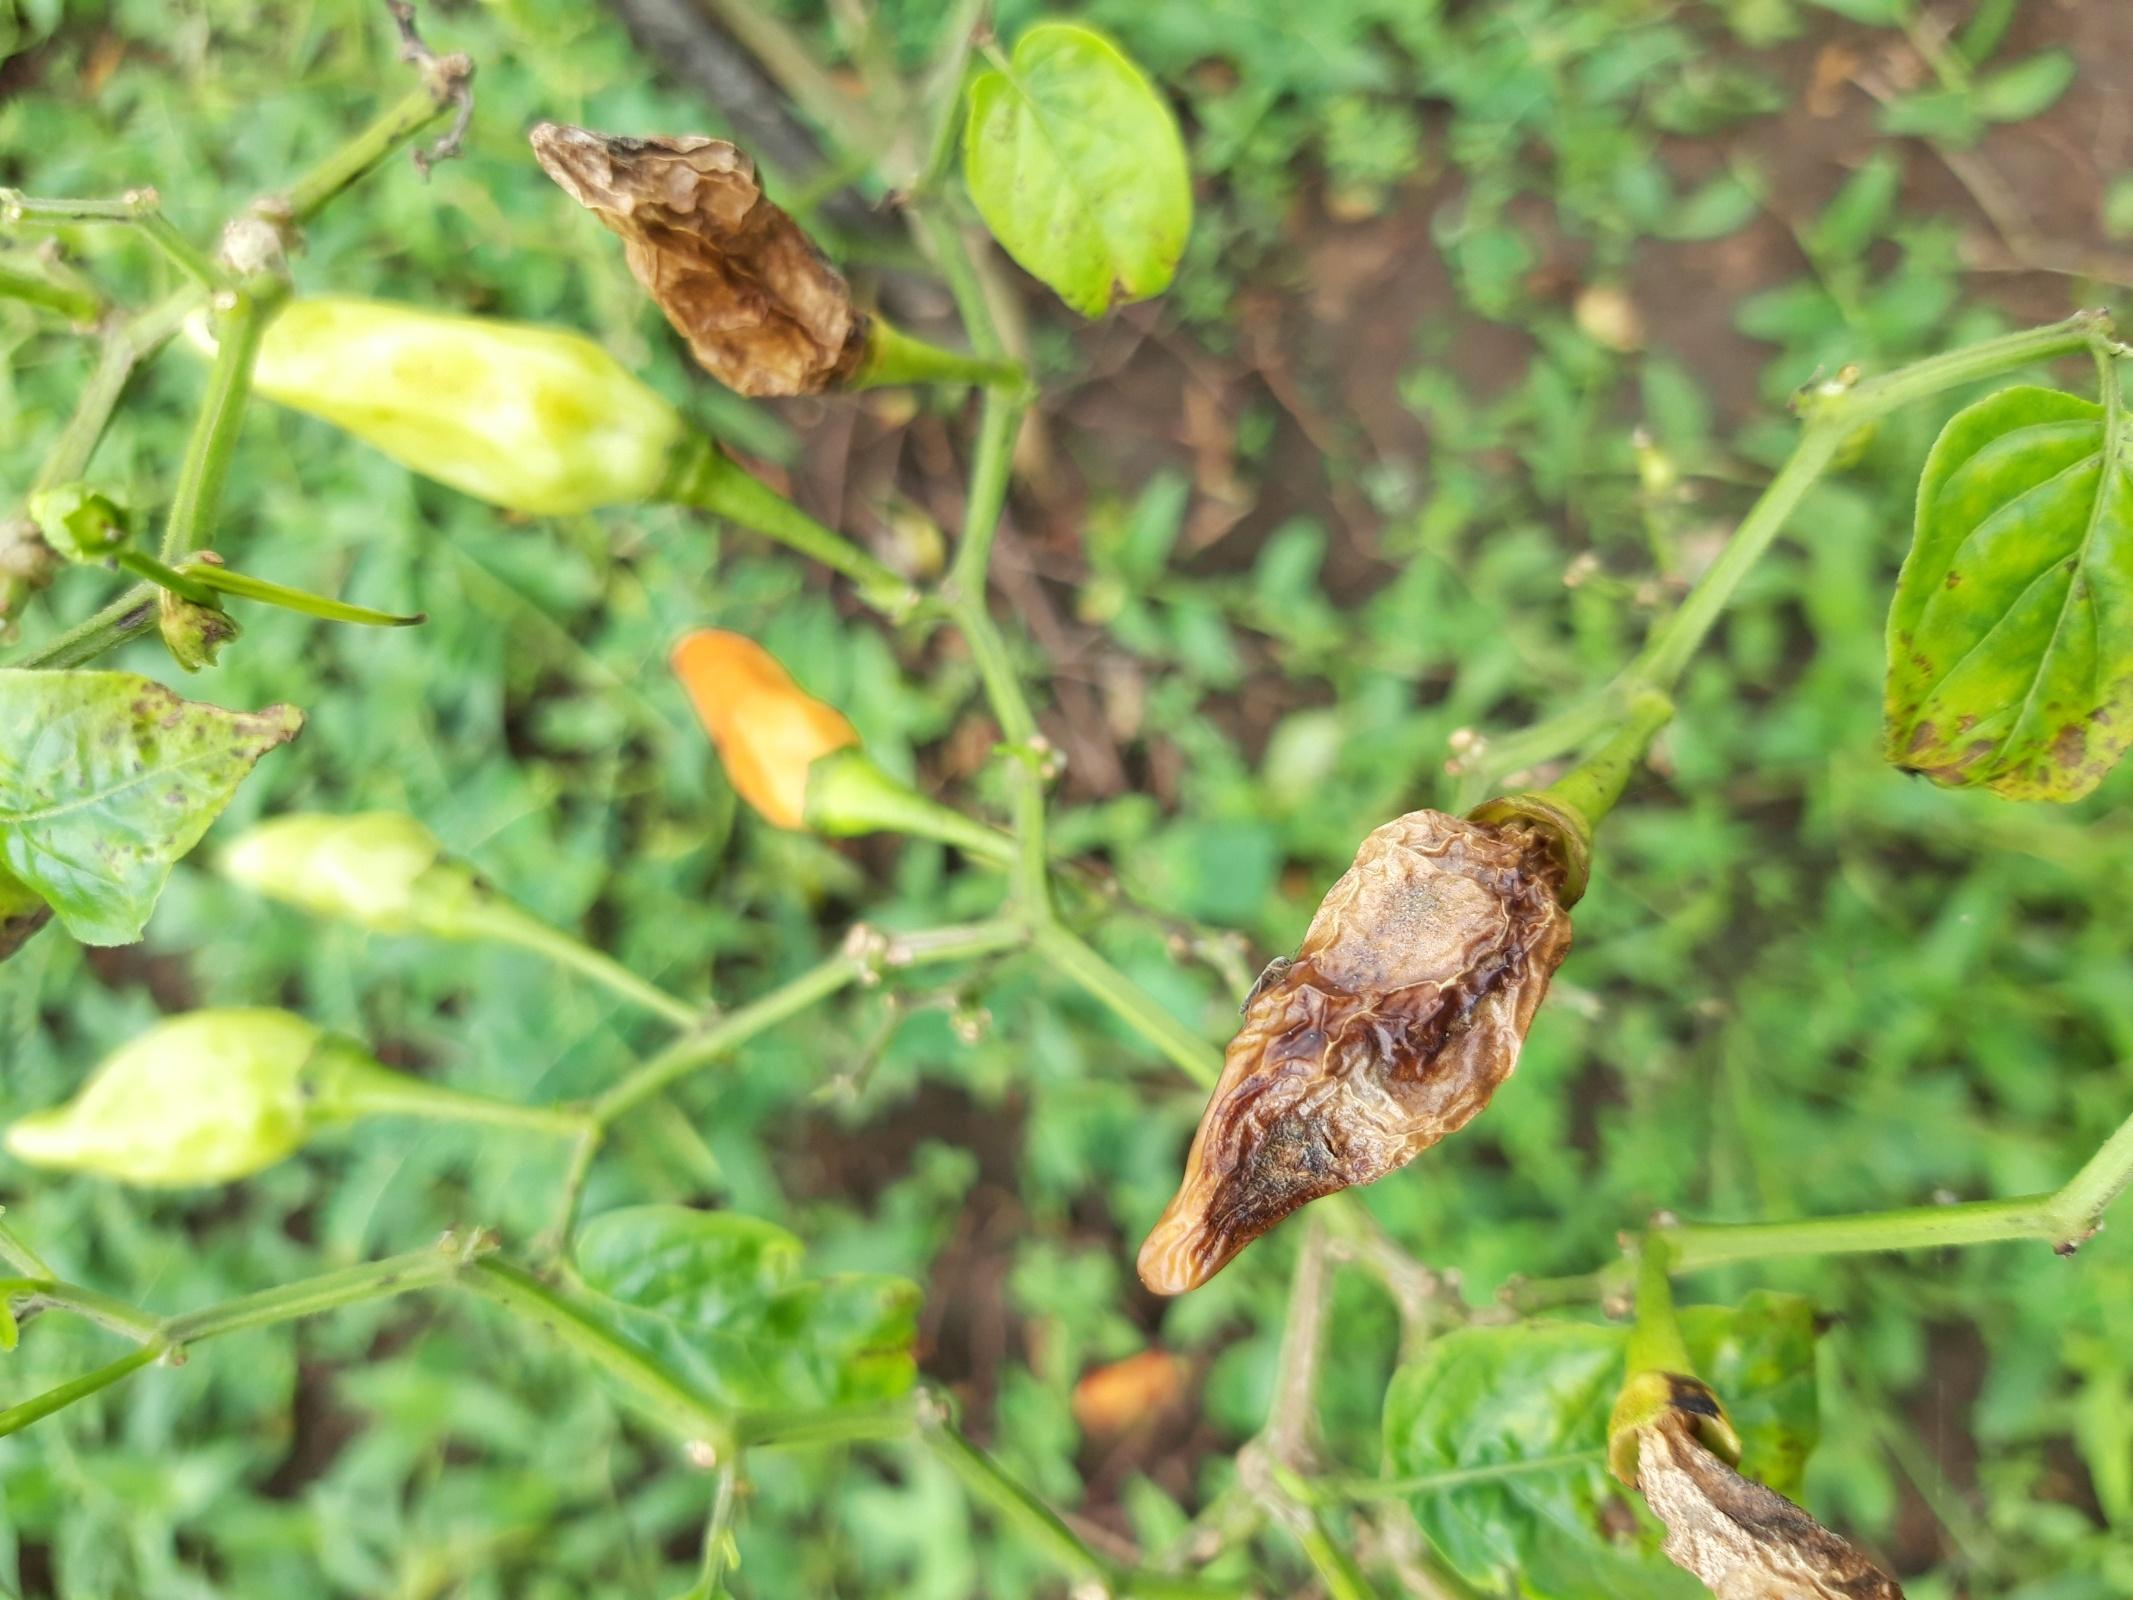antraknosa: (1141, 817, 1572, 1292), (188, 271, 684, 513), (533, 119, 852, 393), (2, 1007, 341, 1190), (1639, 1424, 1896, 1600), (208, 807, 445, 941)
cabai_normal: (679, 634, 857, 824)
